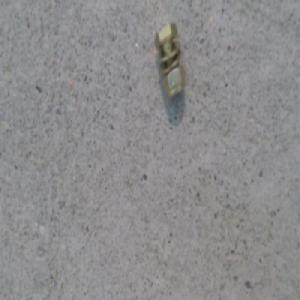BoltNutSet: (154, 21, 184, 100)
